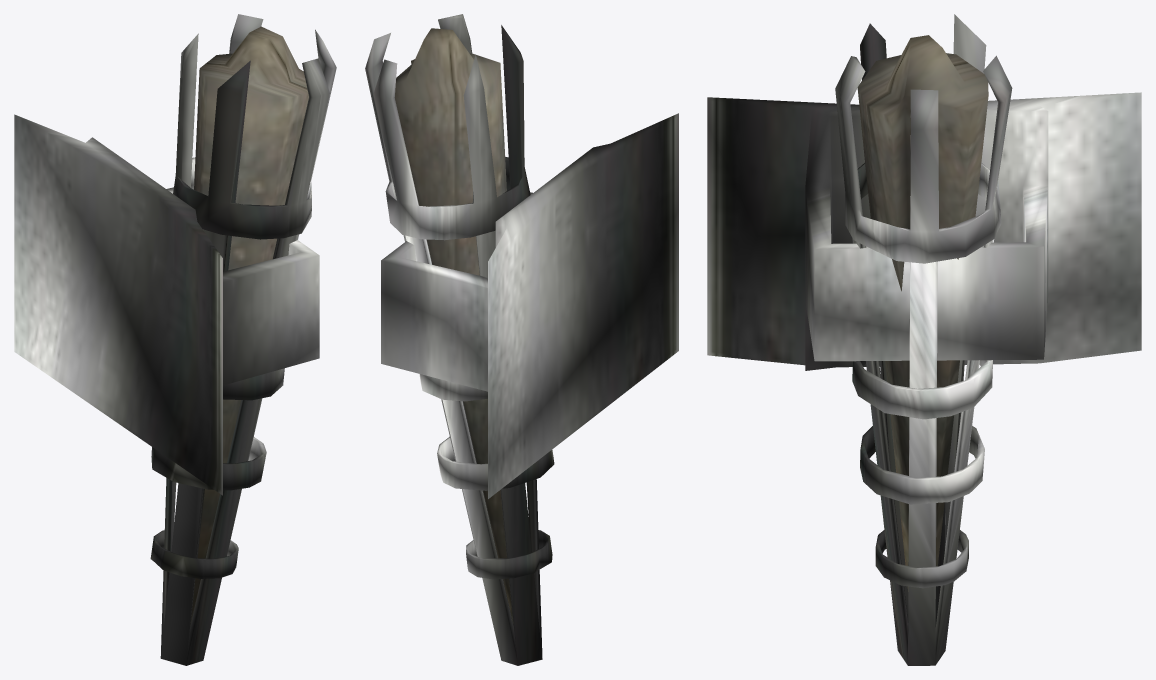
The model's file is brand.glb.
3 views of the same model, side by side, from view 1: azimuth 30°, elevation 25°; view 2: azimuth 150°, elevation 25°; view 3: azimuth 270°, elevation 25° (orthographic). The views are drawn at different scales.
Visible parts, largest first — view 1: brand.ms3d.mo; view 2: brand.ms3d.mo; view 3: brand.ms3d.mo.
Boxes of the visible parts, x1,y1,x2,y2 form: brand.ms3d.mo: (14,14,336,665); brand.ms3d.mo: (365,14,678,665); brand.ms3d.mo: (707,14,1141,665).
Size of the model in its own units: 4.77 by 12.8 by 7.62.
2 materials, 2 textured.
